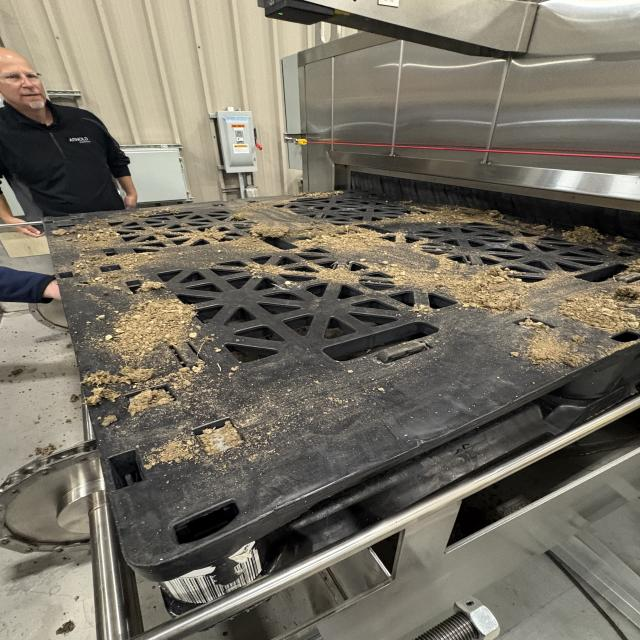igps: (29, 181, 640, 635)
